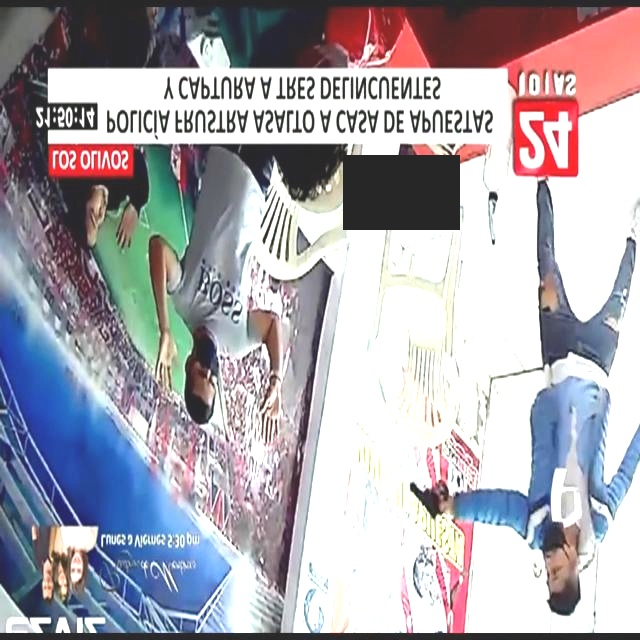gun: (405, 467, 455, 533)
